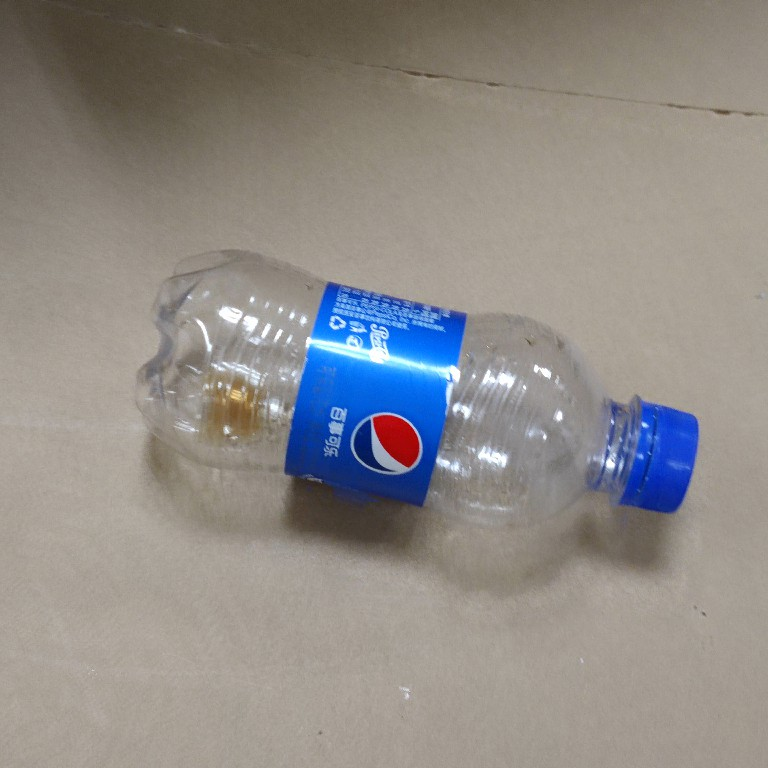bottle: (126, 241, 703, 538)
